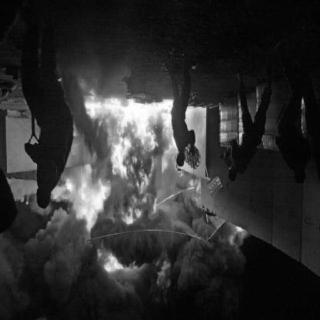Smoke: (5, 224, 231, 316)
